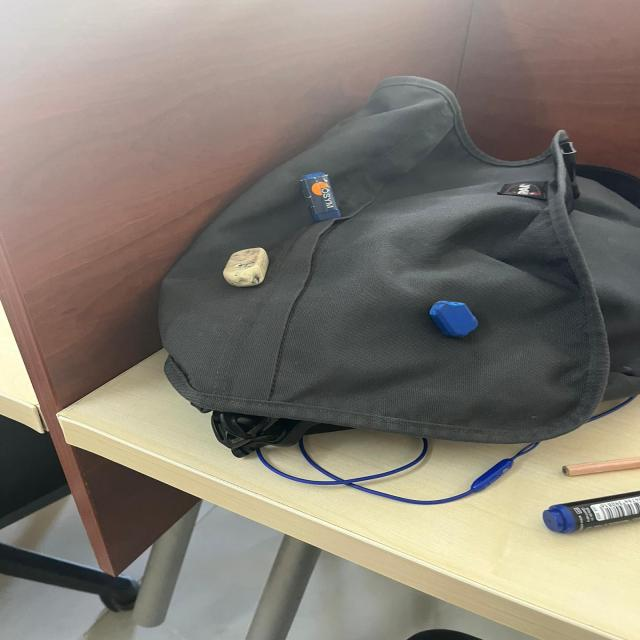eraser: (416, 292, 488, 343), (289, 163, 347, 225), (210, 241, 280, 292)
pencil: (525, 488, 640, 539), (549, 454, 640, 484)
